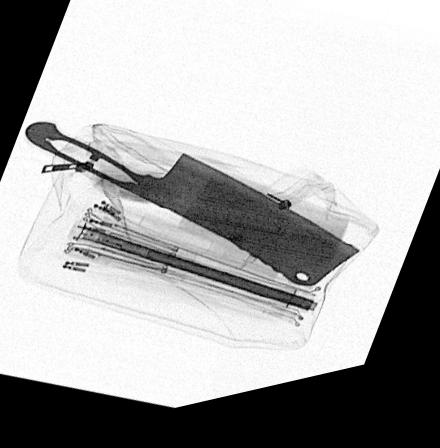Knife: (22, 121, 362, 302)
